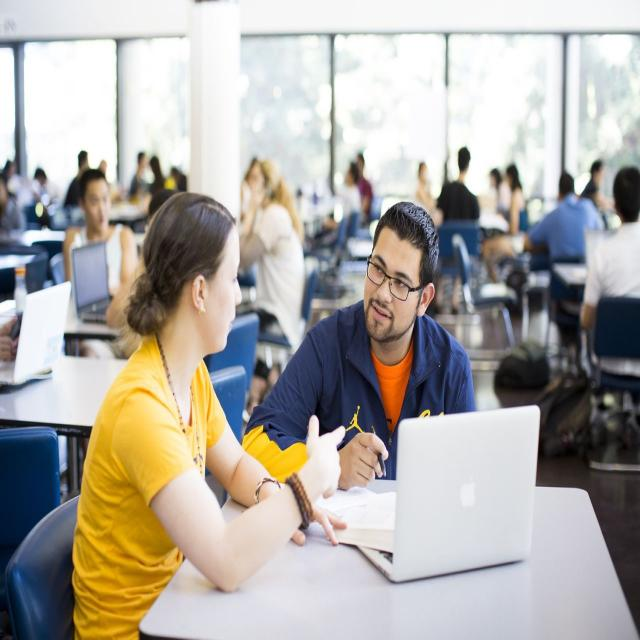body: (64, 188, 347, 639), (240, 195, 478, 493), (240, 157, 306, 423), (0, 149, 188, 240), (523, 172, 605, 376), (578, 164, 640, 411), (62, 167, 140, 360), (436, 144, 482, 221), (324, 161, 362, 250), (234, 155, 270, 246), (578, 156, 614, 232), (496, 163, 530, 233), (414, 160, 442, 230), (0, 303, 26, 376), (354, 152, 374, 222), (490, 166, 512, 223)
